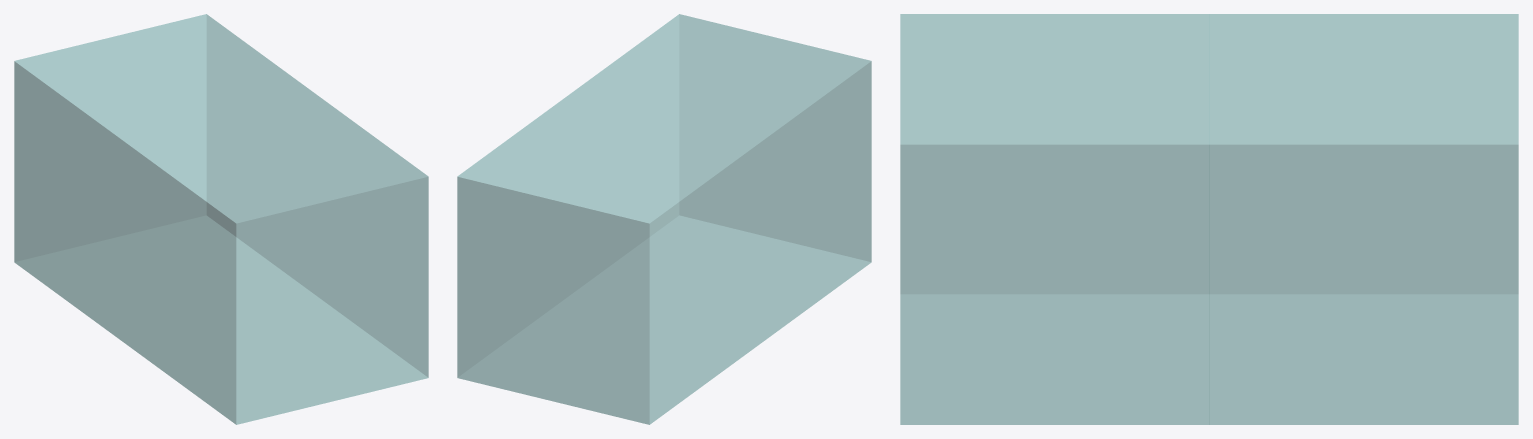
File: TumbleSat0.obj
3 views of the same model, side by side, from view 1: azimuth 30°, elevation 25°; view 2: azimuth 150°, elevation 25°; view 3: azimuth 270°, elevation 25° (orthographic). The views are drawn at different scales.
Parts seen in each view (by area): view 1: cube1; view 2: cube1; view 3: cube1.
Part boxes in pixels (x1,y1,x2,y2): cube1: (14, 14, 428, 424); cube1: (457, 14, 871, 424); cube1: (900, 14, 1518, 424).
Size of the model in its own units: 1 by 1 by 2.
